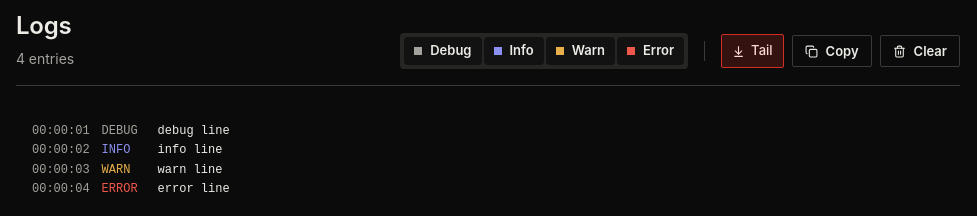
Test: LogsScreen filtering and actions › falls back to all levels when the last active filter is removed
What coordinates should you click on to do the following:
click the button "debug"
I would click on:
 (443, 51)
Its box is [404,37,482,65].
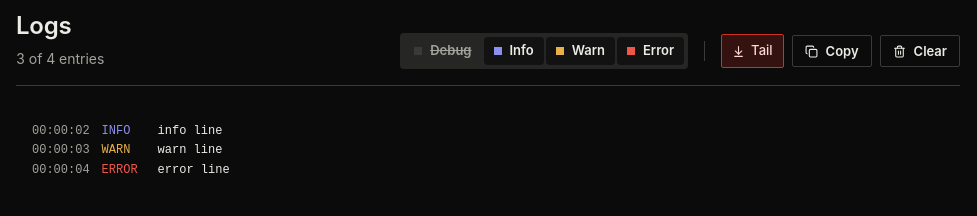
What coordinates should you click on to do the following:
click the button "info"
I would click on:
 (514, 51)
Its box is [484,37,544,65].
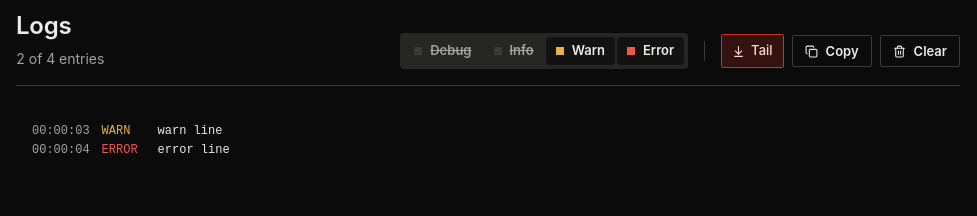
What coordinates should you click on to do the following:
click the button "warn"
I would click on:
 (580, 51)
Its box is [546,37,615,65].
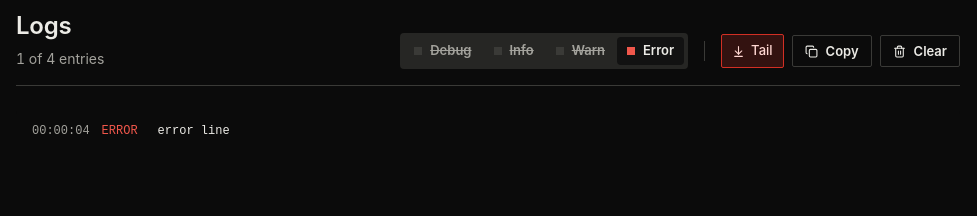
What coordinates should you click on to do the following:
click the button "error"
I would click on:
 (651, 51)
Its box is [617,37,684,65].
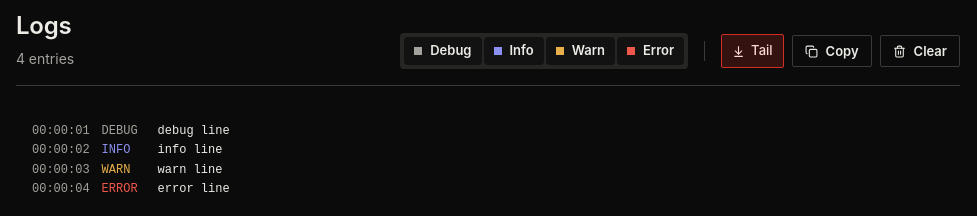
Expected: the text "error line" is shown, [158,180,230,200]
Expected: the text "debug line" is shown, [158,122,230,141]
